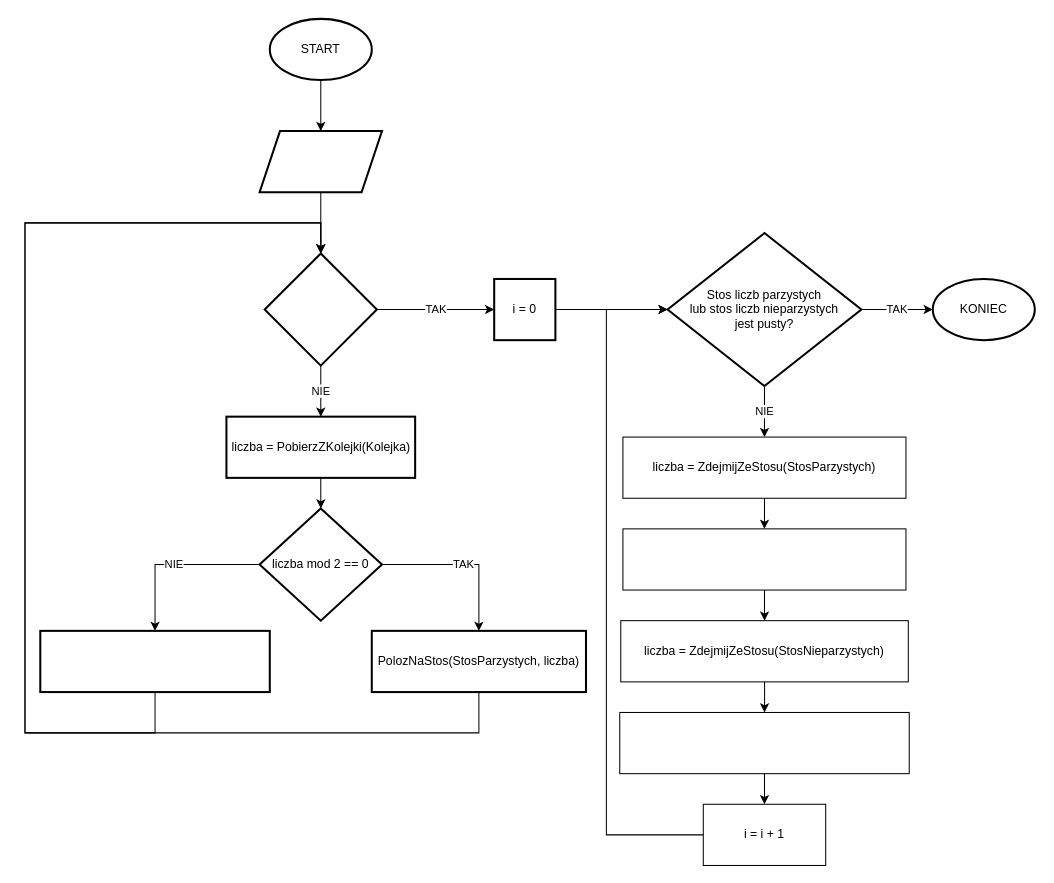
The diagram is 1054 pixels wide and 883 high, and some of its shapes have lost their labels. Each missing label, with the box of its shape:
kolejka jest pusta: (263, 252, 377, 366)
PolozNaStos(StosNieparzystych, liczba): (39, 629, 270, 693)
TablicaParzysteNieparzyste[i].nieparzysta = liczba: (619, 711, 909, 774)
TablicaParzysteNieparzyste[i].parzysta = liczba: (622, 528, 906, 590)
wczytaj: Kolejka: (258, 130, 382, 193)
